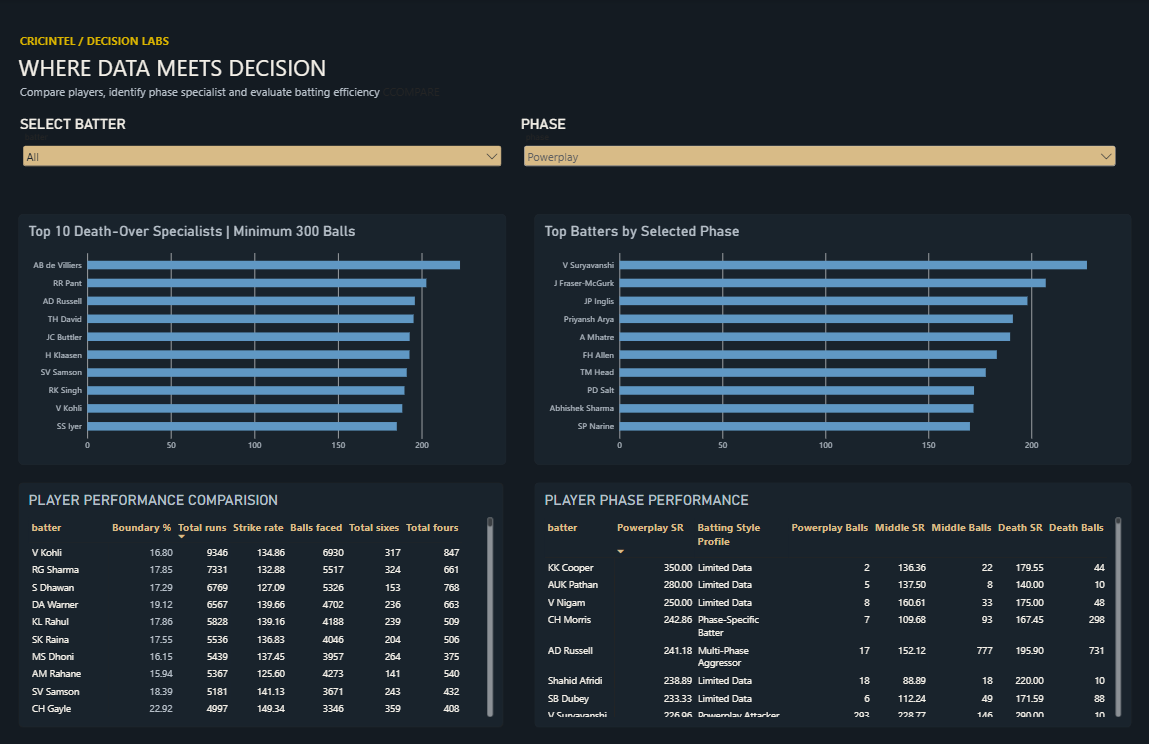

The page's visual inventory and layout, read from the dashboard file:
{"tool":"powerbi","page":{"name":"Decision Lab","canvas":[1920,1250],"ordinal":2},"visuals":[{"type":"textbox","box":[33.3,88.9,1793.3,53.3],"z":0},{"type":"clusteredBarChart","title":"Top 10 Death-Over Specialists | Minimum 300 Balls","fields":{"Category":["ipl_deliveries.batter"],"Y":["ipl_deliveries.Qualified Phase SR"]},"box":[33.3,359,812.8,417.9],"z":1000},{"type":"slicer","title":"PHASE","fields":{"Values":["ipl_deliveries.phase"]},"box":[871.1,195.6,995.6,140],"z":2000},{"type":"clusteredBarChart","title":"Top Batters by Selected Phase","fields":{"Category":["ipl_deliveries.batter"],"Y":["ipl_deliveries.Phase Specialist SR"]},"box":[892.3,359,994.9,417.9],"z":3000},{"type":"pivotTable","title":"PLAYER PERFORMANCE COMPARISION","fields":{"Rows":["ipl_deliveries.batter"],"Values":["ipl_deliveries.Boundary %","ipl_deliveries.Total runs","ipl_deliveries.Strike rate","ipl_deliveries.Balls faced","ipl_deliveries.Total sixes","ipl_deliveries.Total fours","select"]},"box":[33.3,807.7,807.7,407.7],"z":4000},{"type":"slicer","title":"SELECT BATTER","fields":{"Values":["ipl_deliveries.batter"]},"box":[35.6,195.6,806.7,140],"z":5000},{"type":"pivotTable","title":"PLAYER PHASE PERFORMANCE ","fields":{"Rows":["ipl_deliveries.batter"],"Values":["ipl_deliveries.Powerplay SR","ipl_deliveries.Player Role","ipl_deliveries.Powerplay Balls","ipl_deliveries.Middle SR","ipl_deliveries.Middle Balls","ipl_deliveries.Death SR","ipl_deliveries.Death Balls"]},"box":[892.5,807.5,994.9,407.7],"z":6000},{"type":"textbox","box":[35.6,57.8,1255.6,31.1],"z":7000},{"type":"textbox","box":[35.6,142.2,1044.4,37.8],"z":8000}]}

Visuals, with their boxes in screenshot pixels (x1, y1, x2, y2), scaled from the page's 1920x1250 canvas onto the 1149x744 screenshot:
textbox: [20,53,1093,85]
"Top 10 Death-Over Specialists | Minimum 300 Balls" clusteredBarChart: [20,214,506,462]
"PHASE" slicer: [521,116,1117,200]
"Top Batters by Selected Phase" clusteredBarChart: [534,214,1129,462]
"PLAYER PERFORMANCE COMPARISION" pivotTable: [20,481,503,723]
"SELECT BATTER" slicer: [21,116,504,200]
"PLAYER PHASE PERFORMANCE " pivotTable: [534,481,1129,723]
textbox: [21,34,773,53]
textbox: [21,85,646,107]
